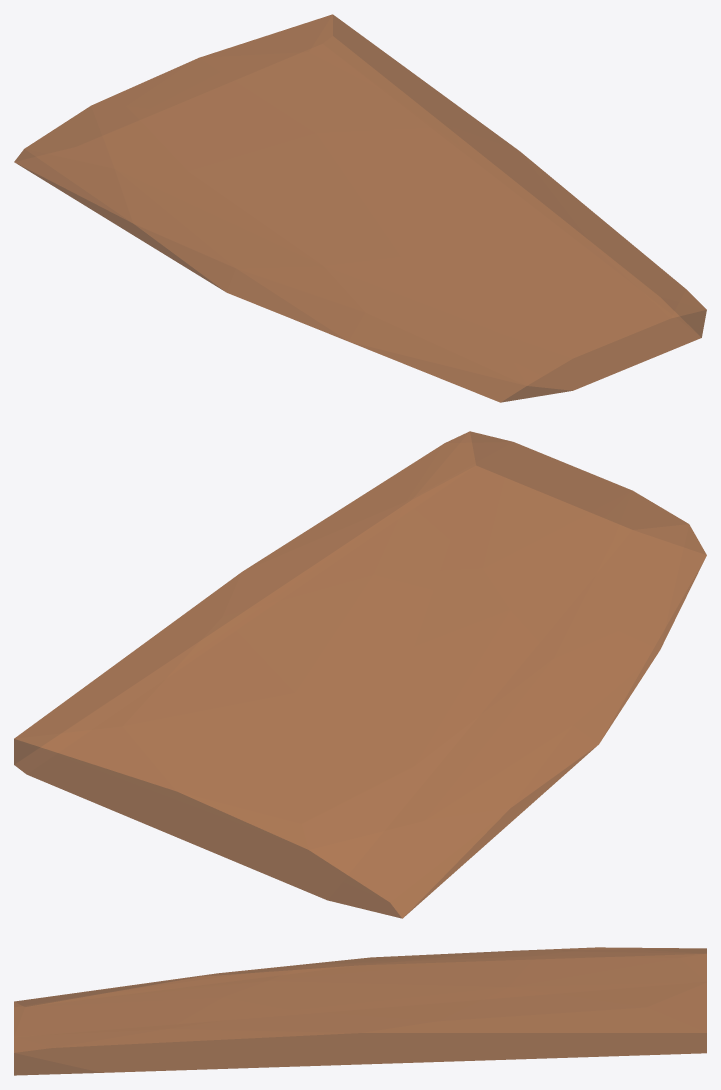
3 views of the same model, one above another, from view 1: azimuth 30°, elevation 25°; view 2: azimuth 150°, elevation 25°; view 3: azimuth 270°, elevation 25° (orthographic). The views are drawn at different scales.
Parts seen in each view (by area): view 1: Shape_IndexedFaceSet.005_Shape_IndexedFaceSet.10715; view 2: Shape_IndexedFaceSet.005_Shape_IndexedFaceSet.10715; view 3: Shape_IndexedFaceSet.005_Shape_IndexedFaceSet.10715.
Part boxes in pixels (<box>): Shape_IndexedFaceSet.005_Shape_IndexedFaceSet.10715: <box>14,14,706,402</box>; Shape_IndexedFaceSet.005_Shape_IndexedFaceSet.10715: <box>14,431,706,918</box>; Shape_IndexedFaceSet.005_Shape_IndexedFaceSet.10715: <box>14,947,706,1075</box>.
Bounding box in the file's own units: 0.2047 × 0.0429 × 0.4161.
